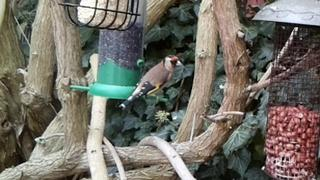goldfinch: (118, 54, 185, 113)
